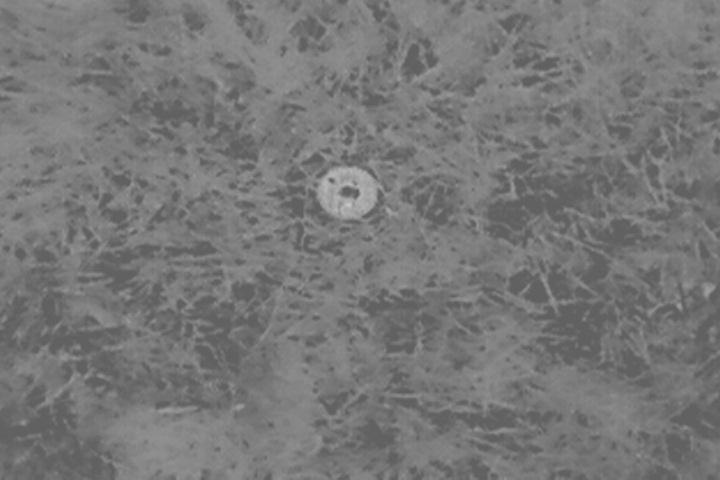landmine: (317, 163, 381, 223)
